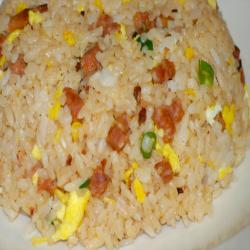rice: (19, 14, 215, 206)
